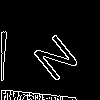N: (25, 25, 82, 84)
